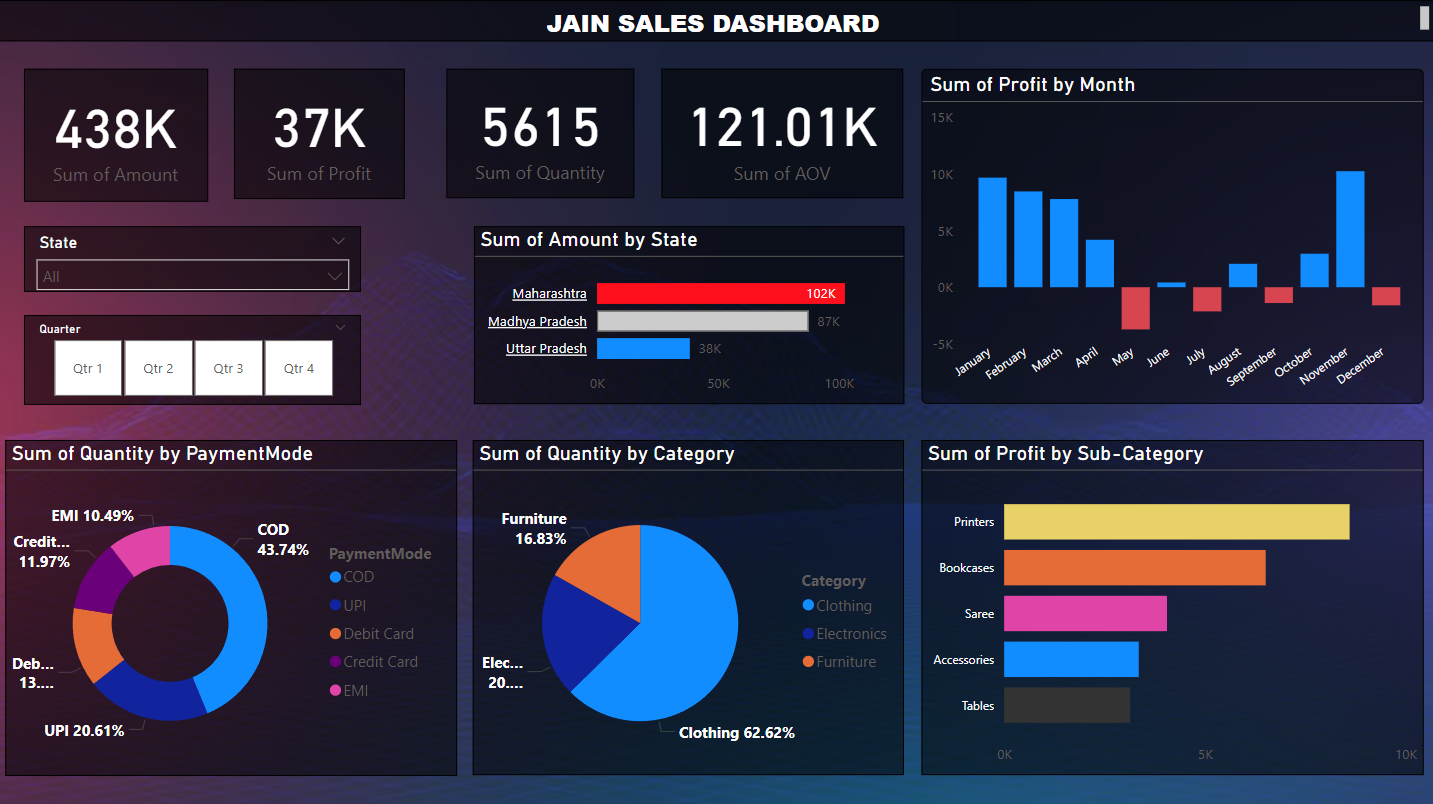

What the dashboard file says about the page in this screenshot:
{"tool":"powerbi","page":{"name":"Page 1","canvas":[1280,720],"ordinal":0},"visuals":[{"type":"textbox","box":[0,0,1280,36.7],"z":0},{"type":"columnChart","fields":{"Category":["Orders.Order Date.Variation.Date Hierarchy.Month"],"Y":["Sum(Details.Profit)"]},"box":[821.5,61.2,447.5,298.3],"z":1000},{"type":"barChart","fields":{"Category":["Details.Sub-Category"],"Y":["Sum(Details.Profit)"]},"box":[821.5,391.8,447.5,298.3],"z":2000},{"type":"pieChart","fields":{"Category":["Details.Category"],"Y":["Sum(Details.Quantity)"]},"box":[421.9,391.8,384,298.3],"z":3000},{"type":"donutChart","fields":{"Y":["Sum(Details.Quantity)"],"Category":["Details.PaymentMode"]},"box":[5.8,391.9,402.3,298.8],"z":4000},{"type":"card","fields":{"Values":["Sum(Details.Amount)"]},"box":[22.1,61.6,164,118.6],"z":5000},{"type":"card","fields":{"Values":["Sum(Details.Profit)"]},"box":[209.3,61.6,152.3,116.3],"z":6000},{"type":"card","fields":{"Values":["Sum(Details.Quantity)"]},"box":[398.8,61.6,167.4,115.1],"z":7000},{"type":"clusteredBarChart","fields":{"Category":["Orders.State"],"Y":["Sum(Details.Amount)"]},"box":[423,201.5,382.9,158.1],"z":8000},{"type":"card","fields":{"Values":["Sum(Details.AOV)"]},"box":[590.1,61.7,215.4,115.3],"z":9000},{"type":"slicer","fields":{"Values":["Orders.State"]},"box":[22.1,201.2,300,58.1],"z":10000},{"type":"slicer","fields":{"Values":["Orders.Order Date.Variation.Date Hierarchy.Quarter"]},"box":[22.1,280.2,300,80.2],"z":11000}]}

Visuals, with their boxes in screenshot pixels (x1, y1, x2, y2), scaled from the page's 1280x720 canvas onto the 1433x804 screenshot:
textbox: region(0, 0, 1432, 41)
columnChart - Orders.Order Date.Variation.Date Hierarchy.Month x Sum(Details.Profit): region(920, 68, 1421, 401)
barChart - Details.Sub-Category x Sum(Details.Profit): region(920, 438, 1421, 771)
pieChart - Details.Category x Sum(Details.Quantity): region(472, 438, 902, 771)
donutChart - Sum(Details.Quantity) x Details.PaymentMode: region(6, 438, 457, 771)
card - Sum(Details.Amount): region(25, 69, 208, 201)
card - Sum(Details.Profit): region(234, 69, 405, 199)
card - Sum(Details.Quantity): region(446, 69, 634, 197)
clusteredBarChart - Orders.State x Sum(Details.Amount): region(474, 225, 902, 402)
card - Sum(Details.AOV): region(661, 69, 902, 198)
slicer - Orders.State: region(25, 225, 361, 290)
slicer - Orders.Order Date.Variation.Date Hierarchy.Quarter: region(25, 313, 361, 402)
